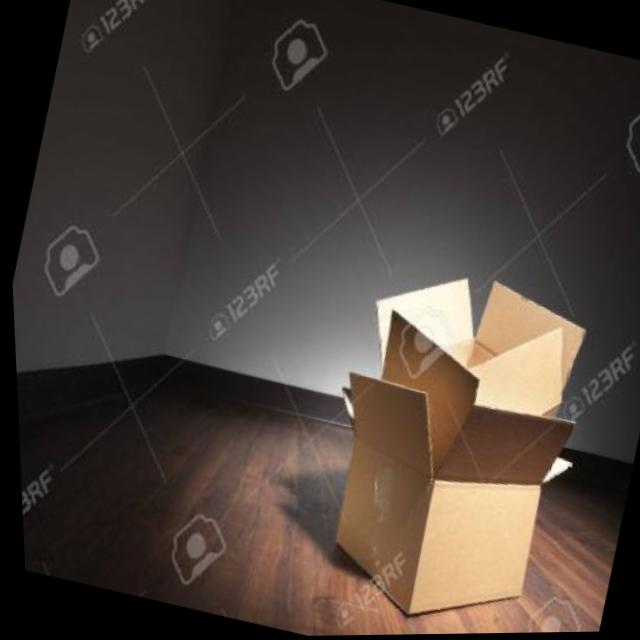box: (288, 358, 588, 637), (310, 234, 599, 509)
